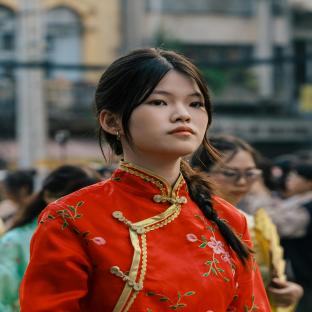Human: (19, 48, 271, 312)
